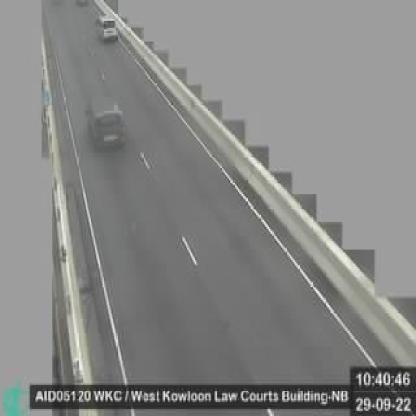Car: (77, 92, 134, 158), (88, 7, 122, 47)
